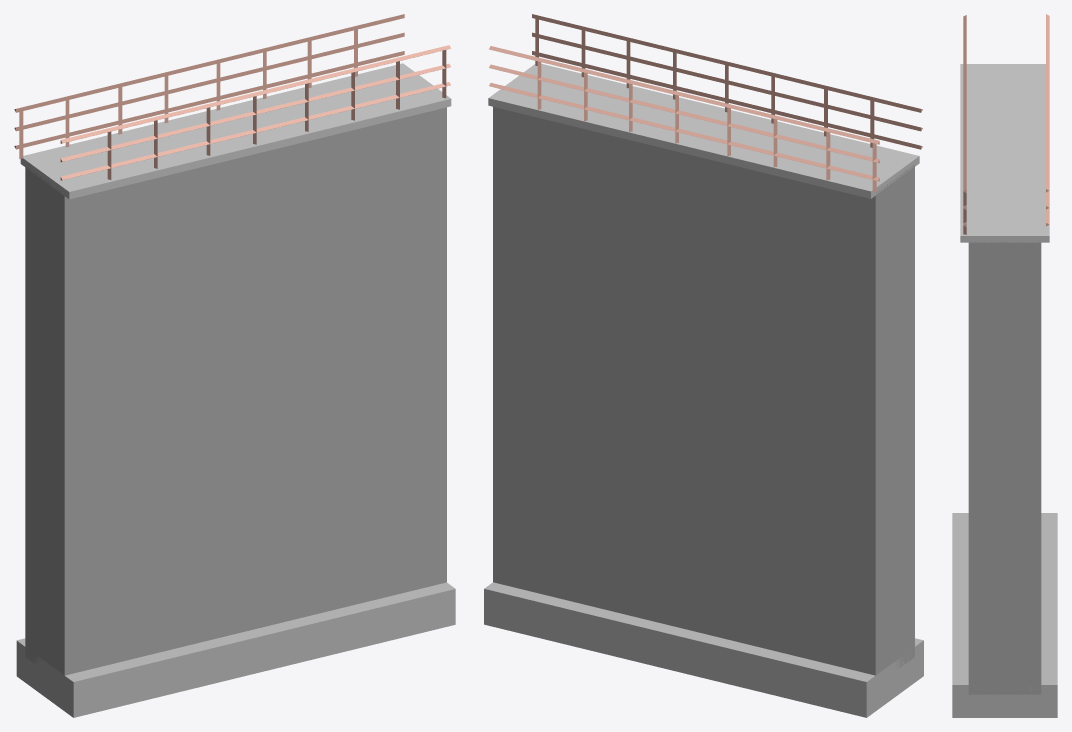
File: wall1.fbx
3 renders of one model, left to right at view 1: azimuth 30°, elevation 25°; view 2: azimuth 150°, elevation 25°; view 3: azimuth 270°, elevation 25°, orthographic. The views are drawn at different scales.
Parts seen in each view (by area): view 1: Cube_26; view 2: Cube_26; view 3: Cube_26.
Boxes of the visible parts, x1,y1,x2,y2 form: Cube_26: [14, 14, 455, 717]; Cube_26: [484, 14, 923, 717]; Cube_26: [952, 14, 1057, 717].
Bounding box in the file's own units: 790 × 1110 × 200.
